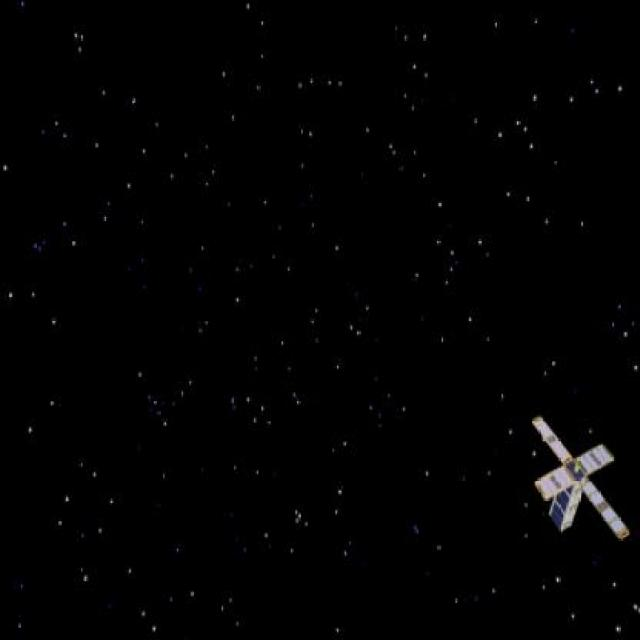medium_debris: (521, 410, 635, 544)
